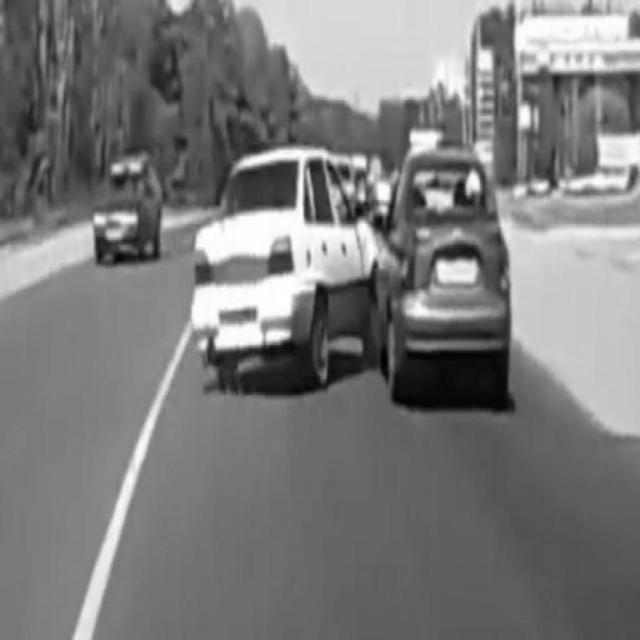accident: (193, 145, 513, 408)
vehicle: (89, 151, 163, 264)
